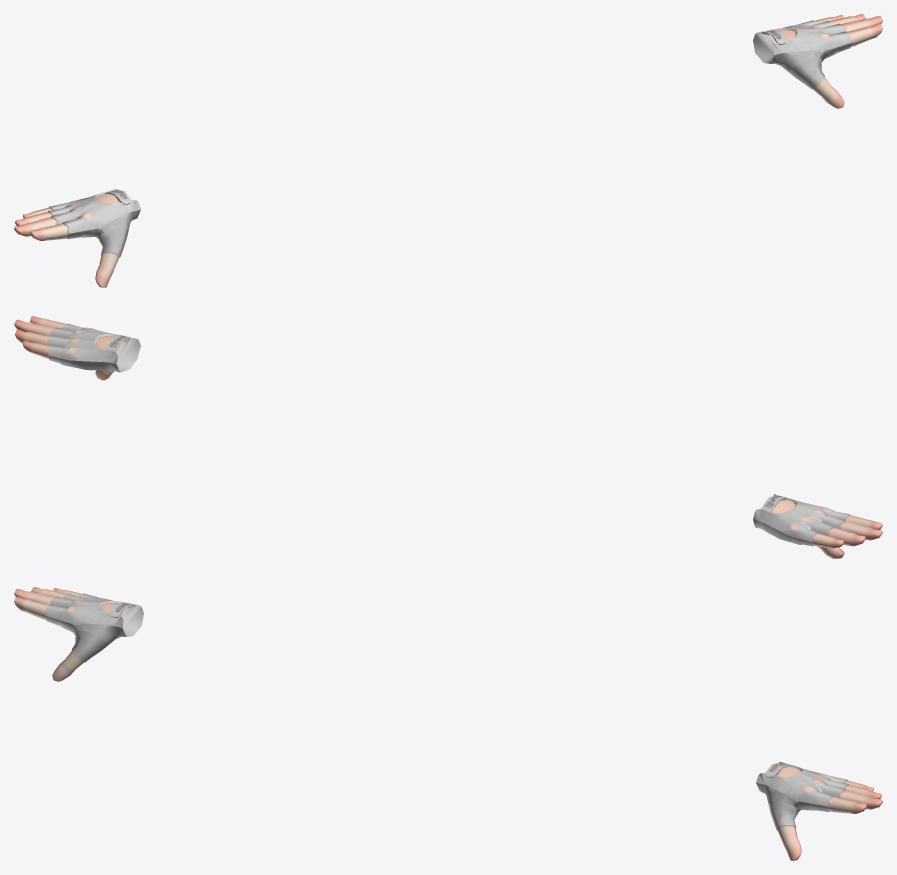
Rendered from p0_glv0005_00_glv00.gltf.
3 views of the same model, one above another, from view 1: azimuth 30°, elevation 25°; view 2: azimuth 150°, elevation 25°; view 3: azimuth 330°, elevation 25° (orthographic).
Parts seen in each view (by area): view 1: glv00_glove_mesh_shape:glove, glv00_glove_skin_mesh_shape:glove_skin; view 2: glv00_glove_mesh_shape:glove, glv00_glove_skin_mesh_shape:glove_skin; view 3: glv00_glove_mesh_shape:glove, glv00_glove_skin_mesh_shape:glove_skin.
Part boxes in pixels (x1=…): glv00_glove_mesh_shape:glove: x1=48, y1=20, x2=851, y2=256; glv00_glove_skin_mesh_shape:glove_skin: x1=14, y1=14, x2=882, y2=287; glv00_glove_mesh_shape:glove: x1=47, y1=323, x2=850, y2=546; glv00_glove_skin_mesh_shape:glove_skin: x1=14, y1=316, x2=882, y2=558; glv00_glove_mesh_shape:glove: x1=45, y1=593, x2=848, y2=829; glv00_glove_skin_mesh_shape:glove_skin: x1=14, y1=587, x2=882, y2=860.
Size of what is drawn, in the model's own units: 1.36 by 0.1024 by 0.1182.
2 materials, 2 textured.
